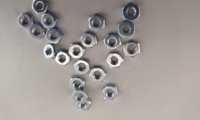nut: (122, 3, 141, 21), (80, 31, 98, 49), (118, 21, 135, 38), (123, 41, 140, 58), (88, 14, 105, 31), (68, 43, 85, 60), (106, 53, 124, 69), (75, 57, 90, 76), (102, 84, 118, 101), (89, 67, 106, 83), (46, 28, 62, 45), (105, 34, 121, 50), (41, 13, 57, 29), (70, 77, 87, 92), (18, 13, 33, 30), (71, 90, 89, 104), (32, 0, 48, 15), (29, 25, 45, 40), (56, 50, 70, 66), (43, 45, 57, 60), (75, 101, 92, 111)
